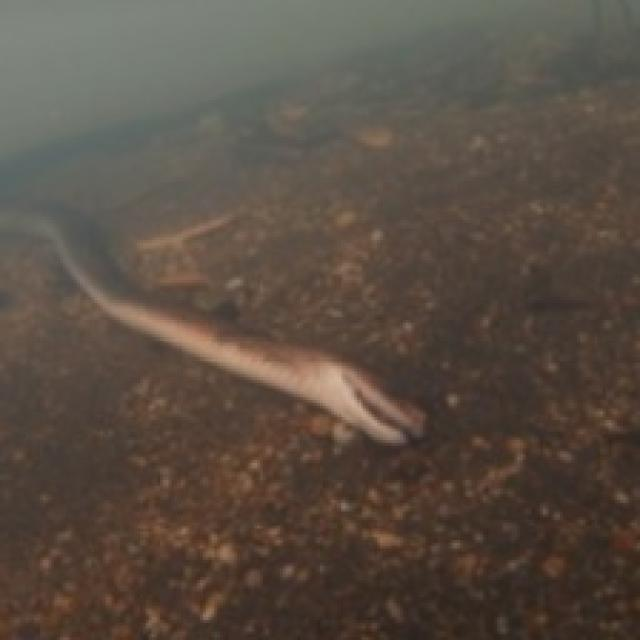reddish rat snake: (0, 209, 423, 443)
